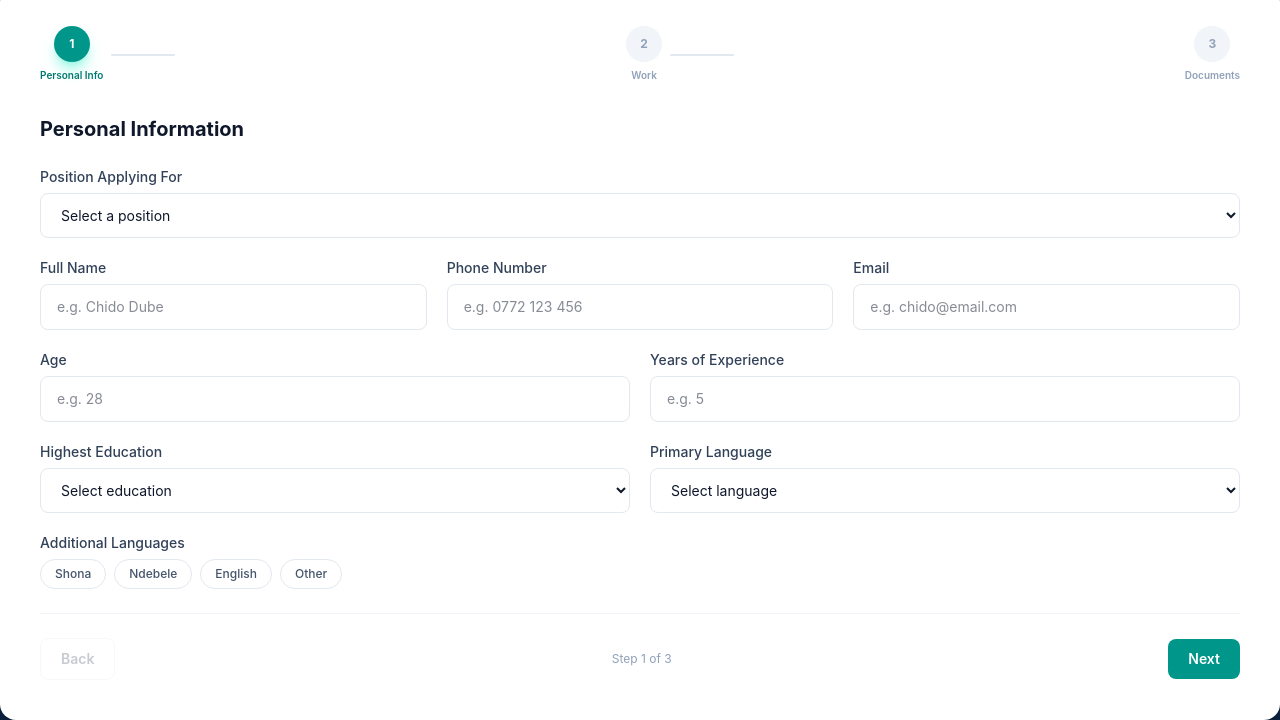
Test: JoinTeamForm › renders documents on step 3
The image size is (1280, 720).
(page scrolled)
Click the button "Next": (1204, 659) [1168,639,1240,679]
(page scrolled)
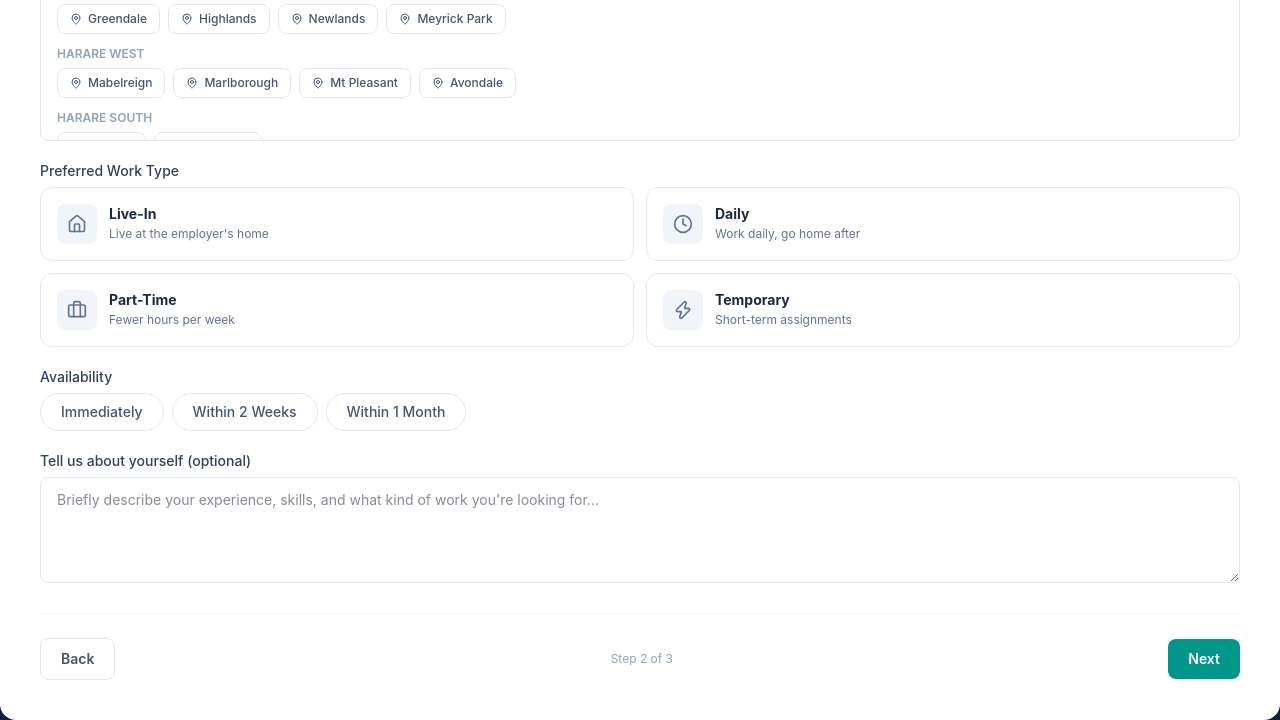
Click the button "Next": (1204, 659) [1168,639,1240,679]
(page scrolled)
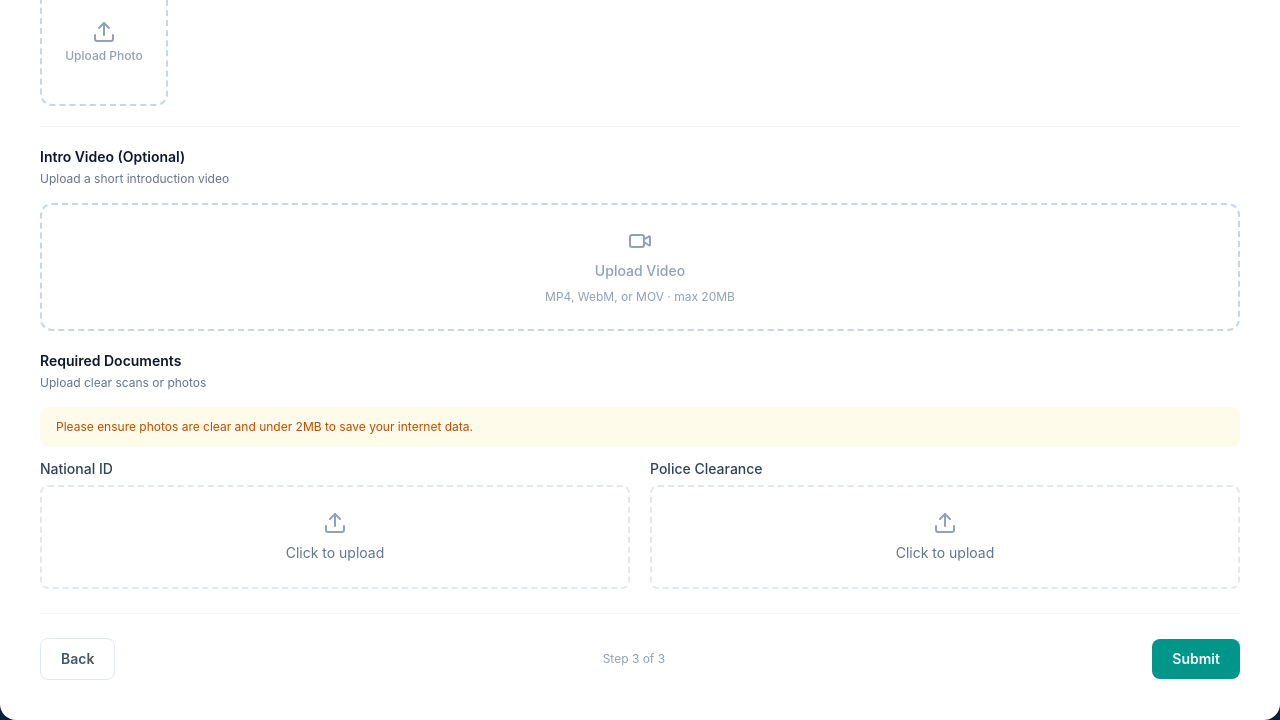
Expected: the text "Upload Photo" is shown, [65,48,143,64]
Expected: the heading "Intro Video (Optional)" is shown, [40,148,185,165]
Expected: the text "Upload Video" is shown, [595,261,685,281]
